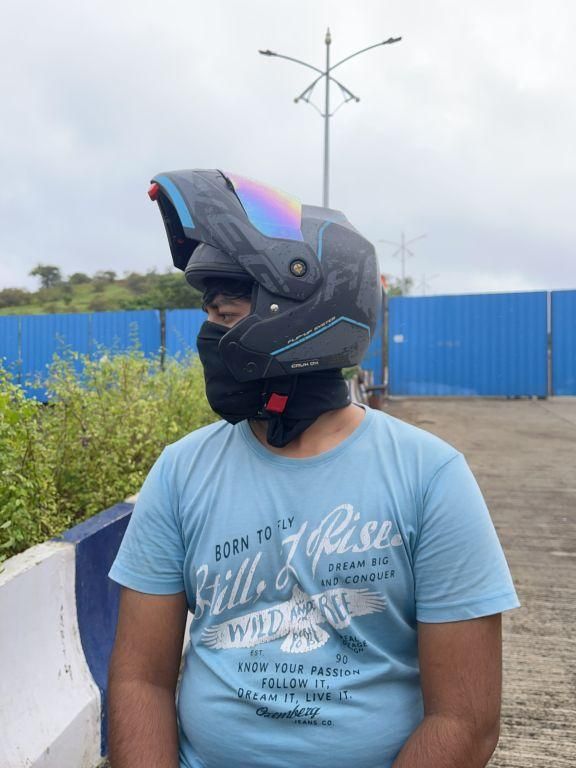helmet: (145, 160, 389, 427)
